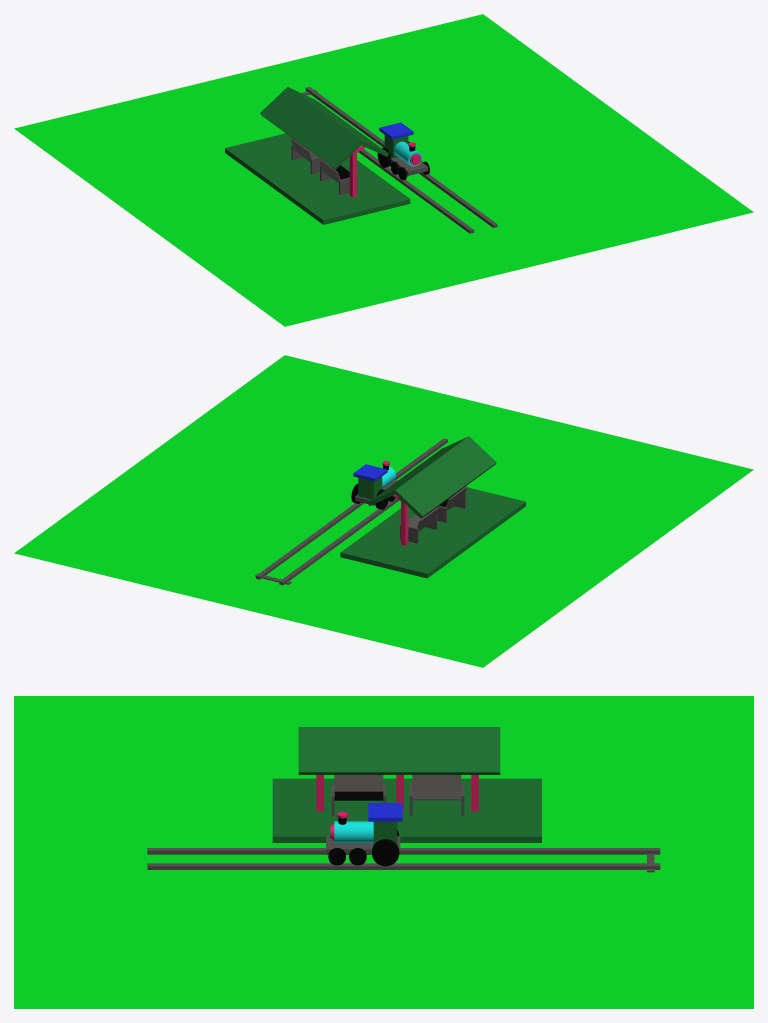
File: Train station.glb
3 renders of one model, top to bottom at view 1: azimuth 30°, elevation 25°; view 2: azimuth 150°, elevation 25°; view 3: azimuth 270°, elevation 25°, orthographic. The views are drawn at different scales.
Parts seen in each view (by area): view 1: Plane, Cube.003, Cube.006, Cube.015, Cube.016, Cube.005; view 2: Plane, Cube.003, Cube.006, Cube.015, Cube.016, Cube.005; view 3: Plane, Cube.003, Cube.005, Cube.015, Cube.016, Cylinder, Cube.019, Cube.023, Cube.002, Cylinder.005.
Part boxes in pixels (x1,y1,x2,y2): Plane: (14, 14, 753, 326); Cube.003: (225, 133, 410, 224); Cube.006: (260, 87, 362, 169); Cube.015: (305, 87, 497, 227); Cube.016: (359, 149, 474, 233); Cube.005: (288, 87, 388, 156); Plane: (14, 355, 753, 667); Cube.003: (340, 487, 525, 578); Cube.006: (394, 436, 496, 518); Cube.015: (256, 438, 447, 579); Cube.016: (279, 498, 398, 585); Cube.005: (368, 437, 467, 506); Plane: (14, 696, 753, 1008); Cube.003: (272, 778, 541, 842); Cube.005: (298, 727, 500, 774); Cube.015: (147, 863, 660, 869); Cube.016: (147, 848, 660, 854); Cylinder: (334, 821, 373, 842); Cube.019: (334, 775, 383, 791); Cube.023: (412, 775, 461, 791); Cube.002: (368, 803, 402, 821); Cylinder.005: (372, 839, 399, 866).
Bounding box in the file's own units: 83.28 × 11.3 × 83.28.
